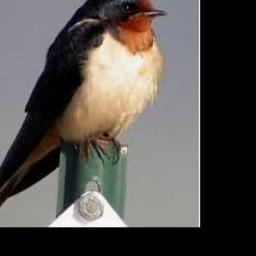Swallow: (0, 0, 167, 227)
